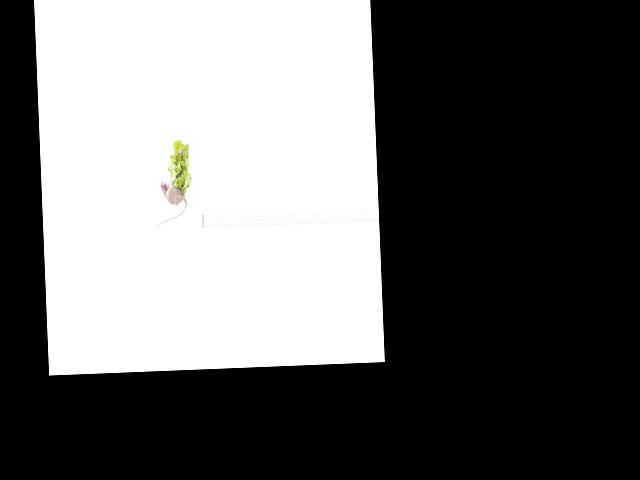beet: (154, 180, 188, 228)
